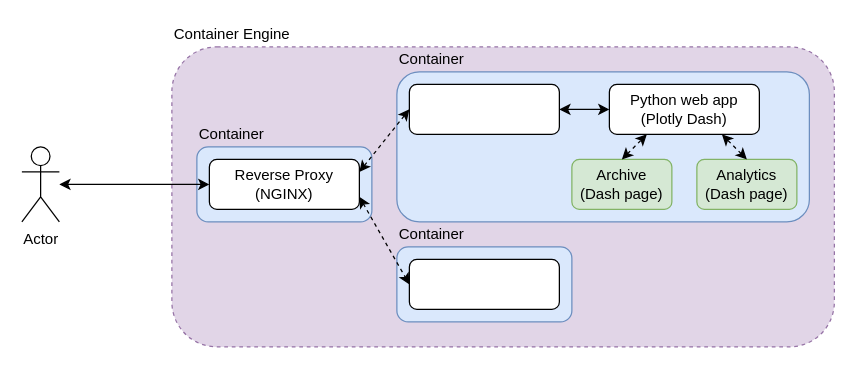
This 856x369 diagram has some shape labels left out. Each missing label, with the centre of its shape:
HTTP Server (Fiery & Dash for R): point (483, 283)
WSGI HTTP Server (Gunicorn): point (483, 108)
